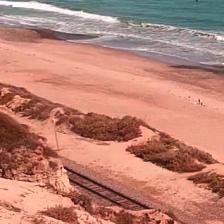surfer: (195, 0, 199, 2)
